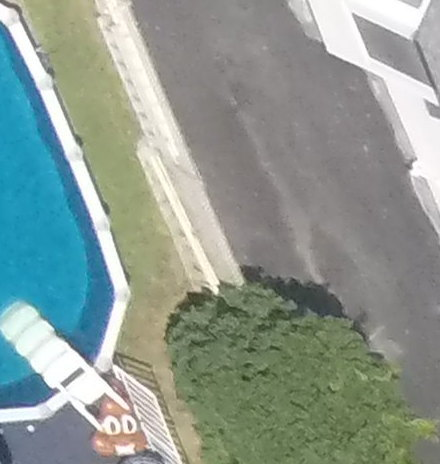pool: (1, 4, 154, 416)
